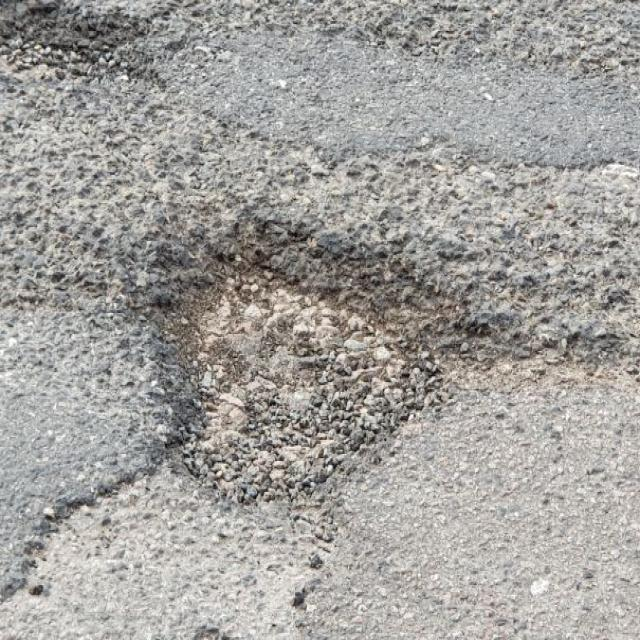pothole: (134, 221, 469, 506)
